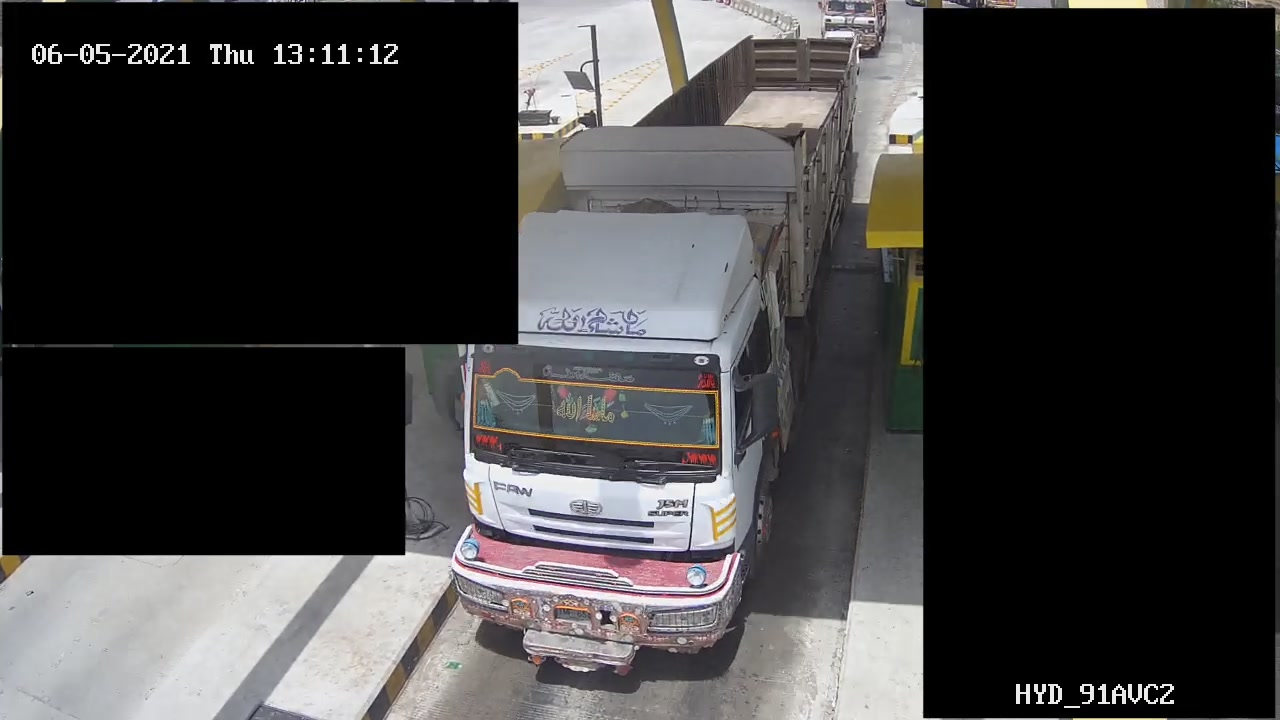F6: (441, 32, 867, 677)
